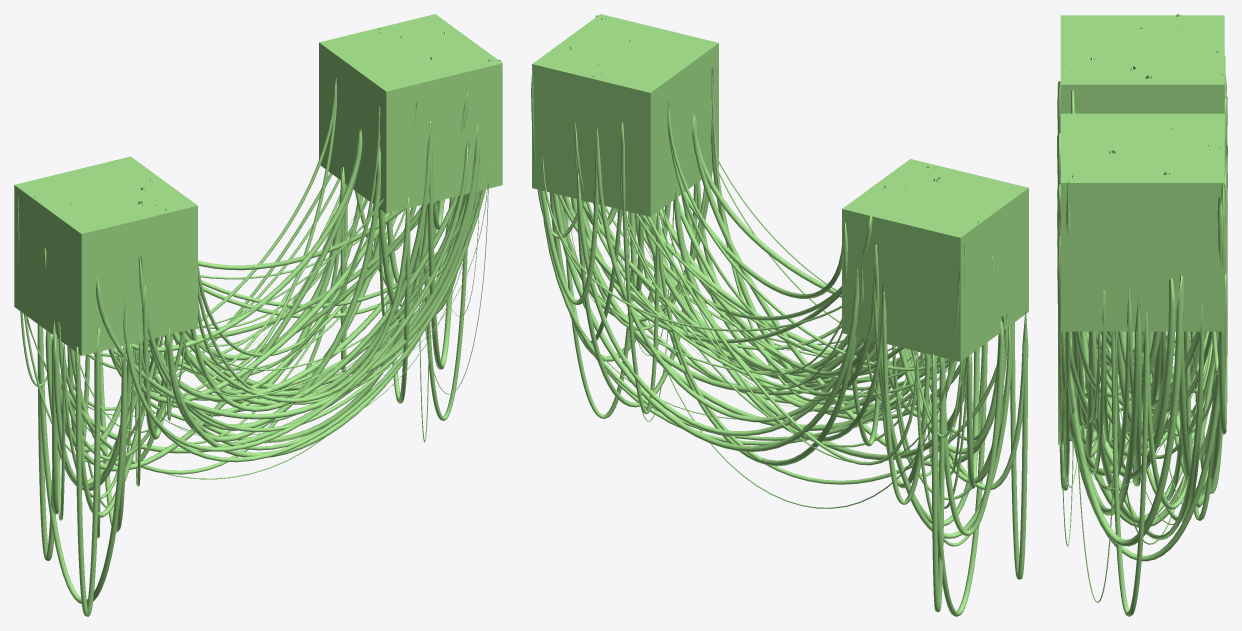
The model's file is wired_cube.glb.
3 renders of one model, left to right at view 1: azimuth 30°, elevation 25°; view 2: azimuth 150°, elevation 25°; view 3: azimuth 270°, elevation 25°, orthographic. The views are drawn at different scales.
Visible parts, largest first — view 1: Topowire, Cube_1, Cube_2; view 2: Topowire, Cube_1, Cube_2; view 3: Topowire, Cube_2, Cube_1.
Part boxes in pixels (x1,y1,x2,y2): Topowire: (17, 28, 501, 616); Cube_1: (14, 156, 197, 355); Cube_2: (319, 14, 502, 213); Topowire: (531, 15, 1028, 616); Cube_1: (842, 159, 1028, 361); Cube_2: (532, 14, 718, 216); Topowire: (1057, 14, 1227, 616); Cube_2: (1060, 113, 1224, 331); Cube_1: (1060, 15, 1224, 113).
Bounding box in the file's own units: 366 × 389 × 104.
